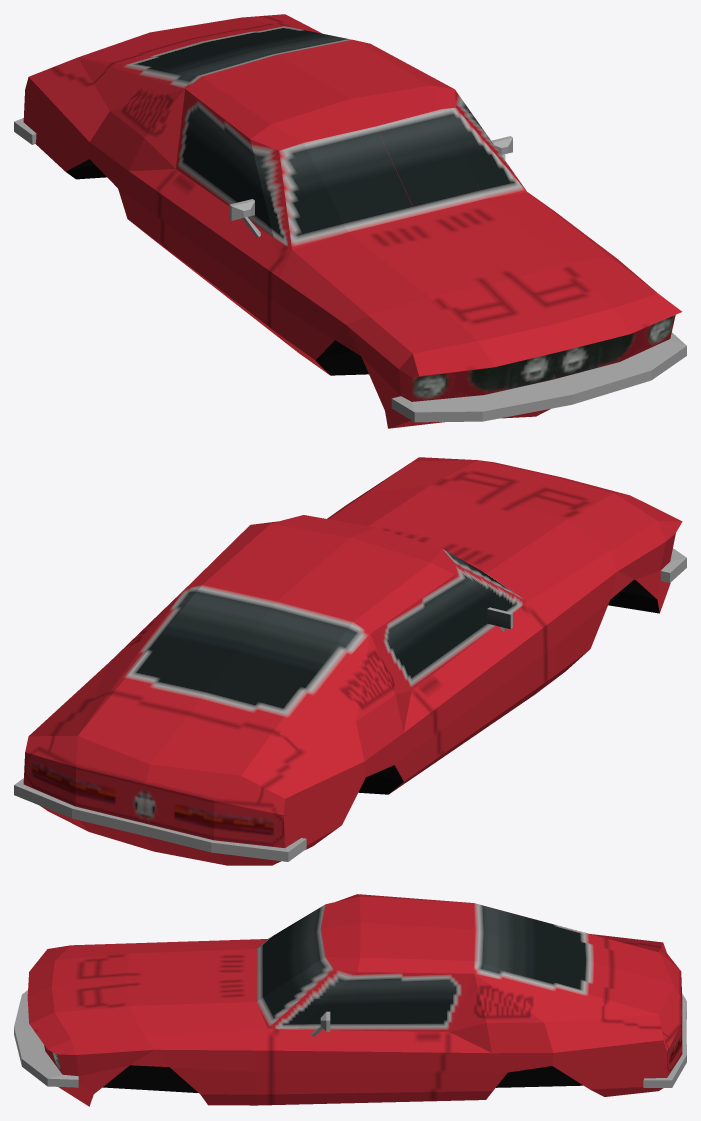
File: mustang_67.obj
3 views of the same model, one above another, from view 1: azimuth 30°, elevation 25°; view 2: azimuth 150°, elevation 25°; view 3: azimuth 270°, elevation 25° (orthographic). The views are drawn at different scales.
Visible parts, largest first — view 1: mustang_67; view 2: mustang_67; view 3: mustang_67.
Part boxes in pixels (left/top/right/bottom): mustang_67: left=14, top=14, right=686, bottom=428; mustang_67: left=14, top=457, right=686, bottom=865; mustang_67: left=14, top=894, right=686, bottom=1106.
Bounding box in the file's own units: 1.77 × 1.12 × 4.69.
Materials: 1 (1 with a texture image).
